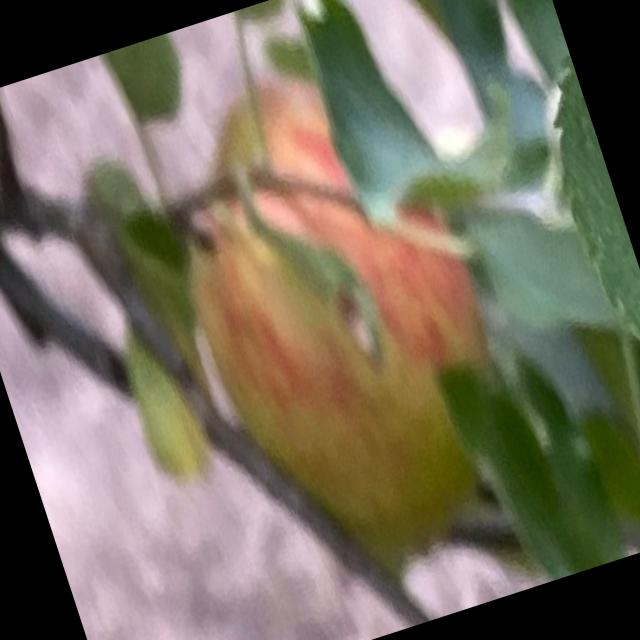Apples: (137, 42, 537, 576)
